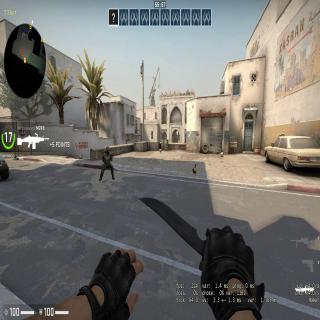CT-Body: (101, 145, 116, 177)
CT-Head: (106, 147, 110, 153)
